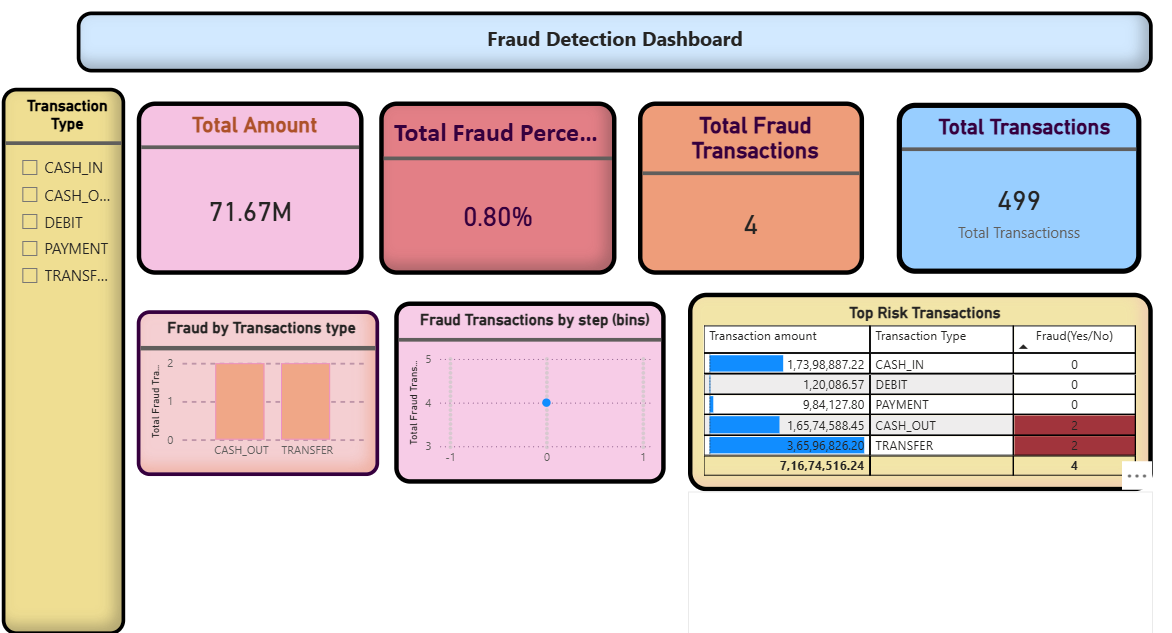

This screenshot's page, from the dashboard's own definition file:
{"tool":"powerbi","page":{"name":"Page 1","canvas":[1280,720],"ordinal":0},"visuals":[{"type":"card","fields":{"Values":["fraud_detection transactions.Fraud per"]},"box":[421.3,120.8,255.2,186.6],"z":0},{"type":"card","title":"Total Fraud Transactions","fields":{"Values":["fraud_detection transactions.Total Fraud Transactions"]},"box":[699.8,120.8,242.9,186.6],"z":1000},{"type":"card","title":"Total Amount","fields":{"Values":["Sum(fraud_detection transactions.amount)"]},"box":[160.5,120.8,244.3,186.6],"z":2000},{"type":"card","title":"Total Transactions","fields":{"Values":["fraud_detection transactions.Total Transactionss"]},"box":[977,122.1,263.5,183.9],"z":3000},{"type":"clusteredColumnChart","title":"Fraud by Transactions type","fields":{"Category":["fraud_detection transactions.type"],"Y":["fraud_detection transactions.Total Fraud Transactions"]},"box":[160.5,345.8,260.7,178.4],"z":4000},{"type":"lineChart","title":" Fraud Transactions by step (bins)","fields":{"Y":["fraud_detection transactions.Total Fraud Transactions"],"Category":["fraud_detection transactions.step (bins)"]},"box":[437.7,336.2,292.3,196.2],"z":5000},{"type":"tableEx","title":"Top Risk Transactions","fields":{"Values":["Sum(fraud_detection transactions.amount)","fraud_detection transactions.type","Sum(fraud_detection transactions.isFraud)"]},"box":[753.1,326.8,500.3,213.8],"z":6000},{"type":"slicer","title":"Transaction Type","fields":{"Values":["fraud_detection transactions.type"]},"box":[15.1,105.7,133.1,588.7],"z":6001},{"type":"textbox","box":[161,524,261,171],"z":6003},{"type":"textbox","box":[438,532,292,163],"z":6004},{"type":"textbox","box":[753,541,500,155],"z":6006},{"type":"textbox","box":[95.5,24.2,1157.9,65.9],"z":6007}]}

Visuals, with their boxes in screenshot pixels (x1, y1, x2, y2):
card - fraud_detection transactions.Fraud per: crop(366, 99, 595, 267)
"Total Fraud Transactions" card: crop(616, 99, 834, 267)
"Total Amount" card: crop(132, 99, 351, 267)
"Total Transactions" card: crop(864, 100, 1101, 265)
"Fraud by Transactions type" clusteredColumnChart: crop(132, 301, 366, 461)
" Fraud Transactions by step (bins)" lineChart: crop(380, 292, 643, 468)
"Top Risk Transactions" tableEx: crop(663, 284, 1112, 476)
"Transaction Type" slicer: crop(1, 86, 121, 614)
textbox: crop(132, 461, 366, 614)
textbox: crop(381, 468, 643, 614)
textbox: crop(663, 476, 1112, 615)
textbox: crop(73, 13, 1112, 72)
